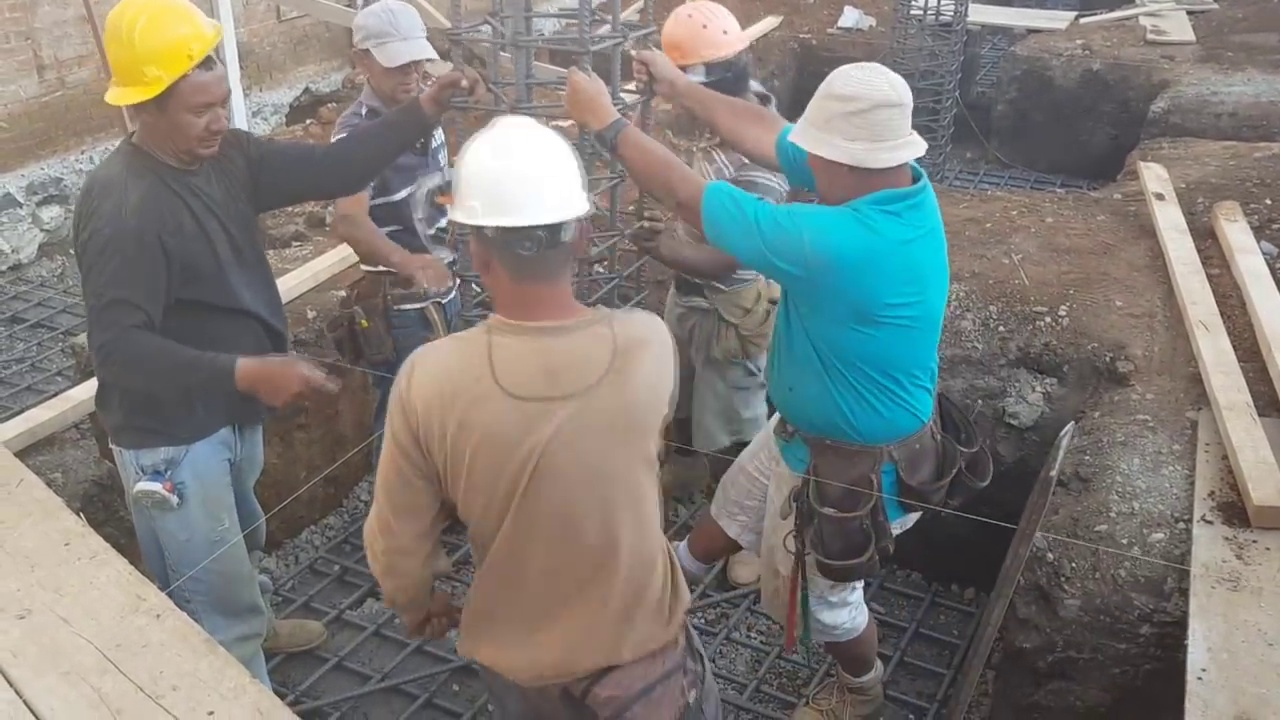helmet: (441, 117, 600, 240), (94, 7, 220, 110), (658, 0, 759, 63)
helmet-off: (772, 57, 922, 206), (346, 0, 451, 116)
helmet-on: (442, 112, 603, 329), (97, 6, 232, 180), (651, 0, 759, 126)
person: (565, 64, 956, 717), (71, 13, 407, 690), (368, 112, 712, 720), (260, 5, 464, 368), (640, 0, 784, 477)
